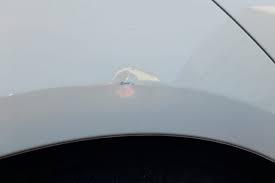dent: (105, 61, 165, 105)
